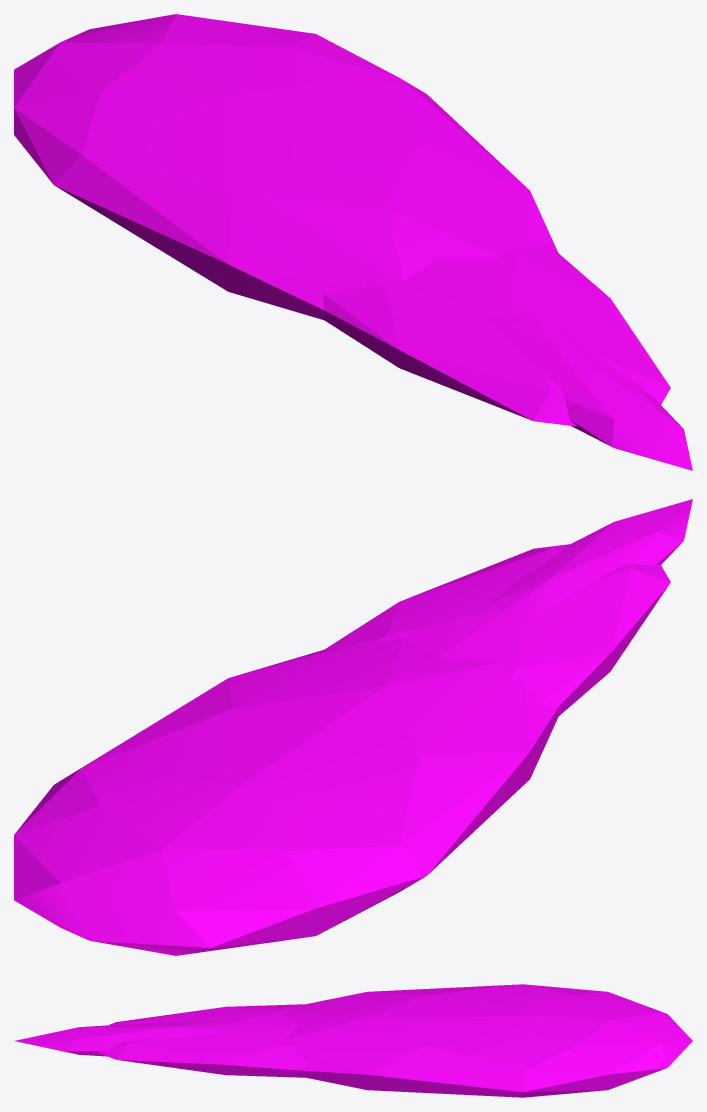
The model's file is Piercing Bullet.fbx.
The picture shows the model from 3 angles, top to bottom: view 1: azimuth 30°, elevation 25°; view 2: azimuth 150°, elevation 25°; view 3: azimuth 270°, elevation 25°; orthographic projection. The views are drawn at different scales.
Parts seen in each view (by area): view 1: projectile; view 2: projectile; view 3: projectile.
Part boxes in pixels (x1,y1,x2,y2): projectile: [14, 14, 692, 470]; projectile: [14, 499, 692, 955]; projectile: [15, 984, 692, 1097].
Bounding box in the file's own units: 34.27 × 7.8 × 96.
